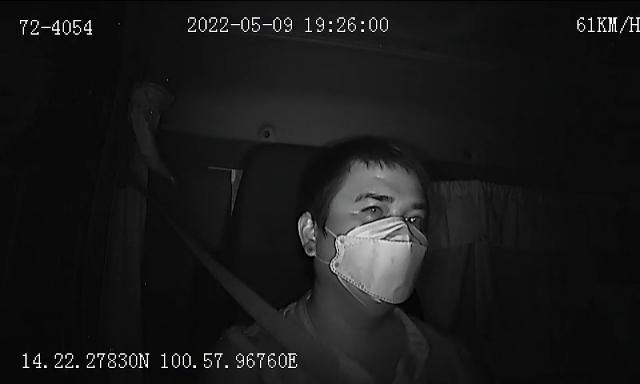SafeDriving: (355, 196, 390, 217)
Seatbelt: (194, 246, 328, 384)
